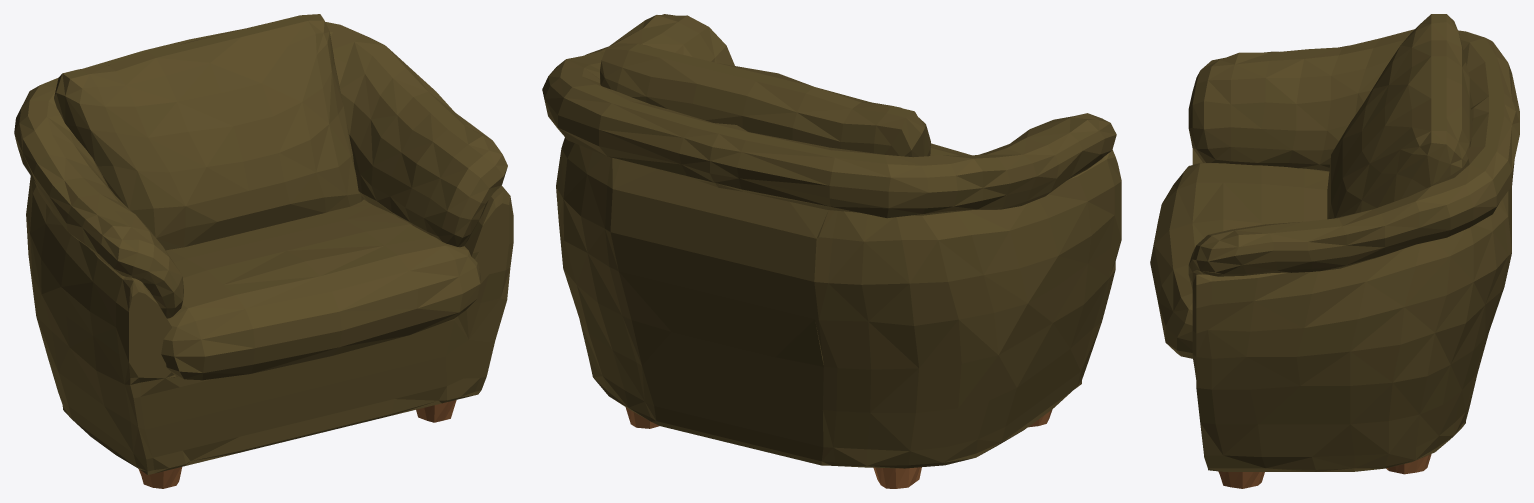
The model's file is Chair.glb.
The picture shows the model from 3 angles, left to right: view 1: azimuth 30°, elevation 25°; view 2: azimuth 150°, elevation 25°; view 3: azimuth 270°, elevation 25°; orthographic projection. The views are drawn at different scales.
Parts seen in each view (by area): view 1: Node; view 2: Node; view 3: Node.
Boxes of the visible parts, <box> form: Node: <box>14,14,513,488</box>; Node: <box>542,14,1121,488</box>; Node: <box>1150,14,1519,488</box>.
Bounding box in the file's own units: 44.99 × 36 × 36.
